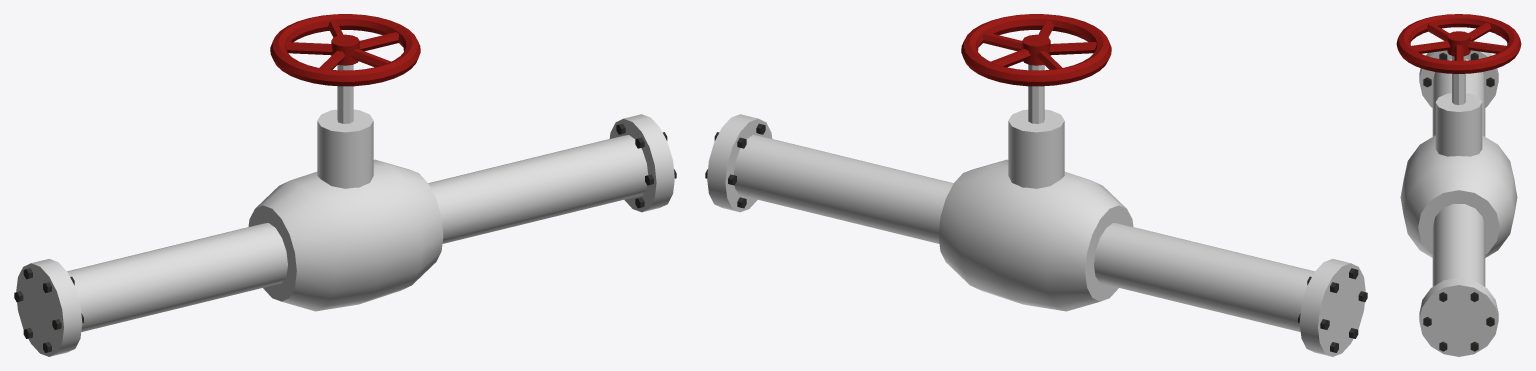
File: PipeValve.glb
3 renders of one model, left to right at view 1: azimuth 30°, elevation 25°; view 2: azimuth 150°, elevation 25°; view 3: azimuth 270°, elevation 25°, orthographic. The views are drawn at different scales.
Parts seen in each view (by area): view 1: PipeValve_Pipe, PipeValve_Valve, PipeValve_Bolts; view 2: PipeValve_Pipe, PipeValve_Valve, PipeValve_Bolts; view 3: PipeValve_Pipe, PipeValve_Valve, PipeValve_Bolts.
Part boxes in pixels (x1,y1,x2,y2): PipeValve_Pipe: [16, 64, 674, 356]; PipeValve_Valve: [270, 14, 420, 86]; PipeValve_Bolts: [14, 123, 676, 352]; PipeValve_Pipe: [707, 64, 1365, 356]; PipeValve_Valve: [961, 14, 1111, 86]; PipeValve_Bolts: [705, 123, 1367, 352]; PipeValve_Pipe: [1400, 41, 1517, 356]; PipeValve_Valve: [1396, 14, 1521, 73]; PipeValve_Bolts: [1423, 52, 1494, 351].
Size of the model in its own units: 1.01 by 0.405 by 0.214.
